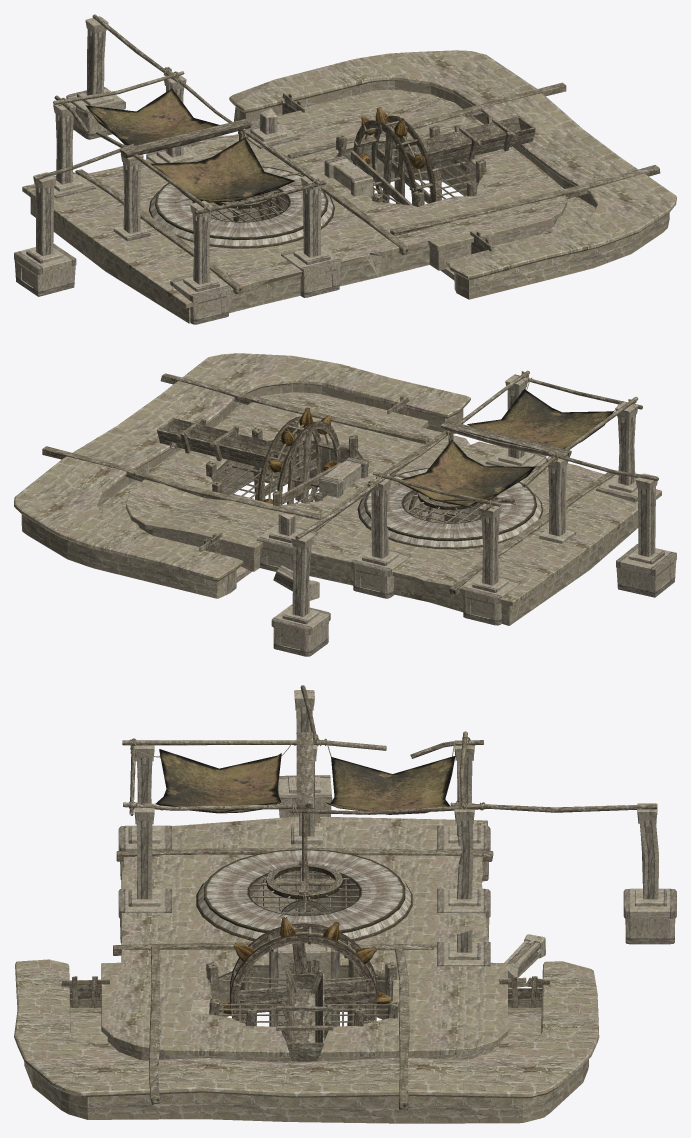
File: TW2_5_WELL_01-transformed.glb
The picture shows the model from 3 angles, top to bottom: view 1: azimuth 30°, elevation 25°; view 2: azimuth 150°, elevation 25°; view 3: azimuth 270°, elevation 25°; orthographic projection. The views are drawn at different scales.
Visible parts, largest first — view 1: default; view 2: default; view 3: default.
Part boxes in pixels (bbox=[...]): default: bbox=[14, 14, 676, 324]; default: bbox=[14, 353, 676, 656]; default: bbox=[14, 685, 676, 1123].
Size of the model in its own units: 23.29 by 6.26 by 19.65.
8 materials, 8 textured.
